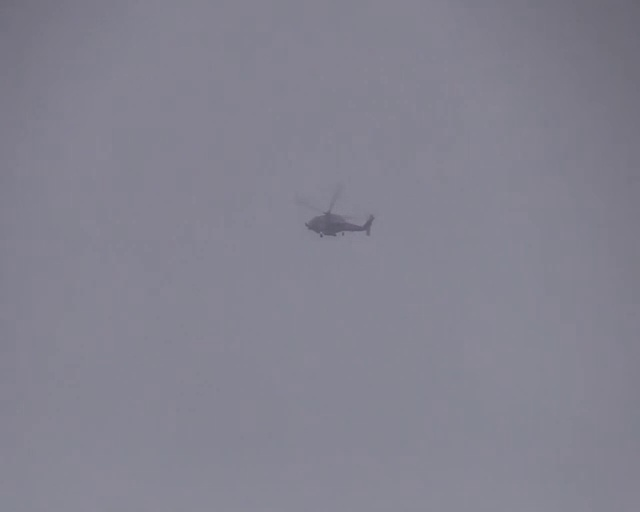HELICOPTER: (296, 180, 374, 238)
